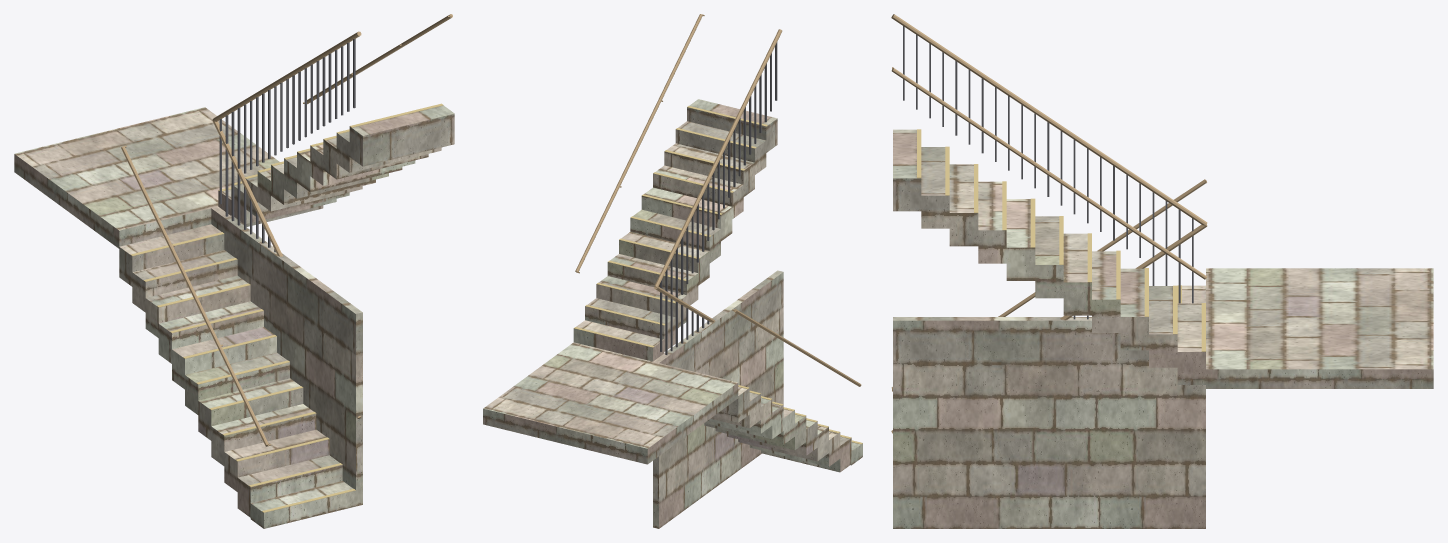
The model's file is stair_0.glb.
3 views of the same model, side by side, from view 1: azimuth 30°, elevation 25°; view 2: azimuth 150°, elevation 25°; view 3: azimuth 270°, elevation 25° (orthographic). The views are drawn at different scales.
Visible parts, largest first — view 1: stair_0_stone, stair_0_iron, stair_0_bronze, stair_0_gold; view 2: stair_0_stone, stair_0_iron, stair_0_bronze, stair_0_gold; view 3: stair_0_stone, stair_0_bronze, stair_0_iron, stair_0_gold.
Part boxes in pixels (x1,y1,x2,y2): stair_0_stone: (14,105,454,528); stair_0_iron: (219,39,355,252); stair_0_bronze: (121,14,452,446); stair_0_gold: (130,103,443,512); stair_0_stone: (483,99,862,528); stair_0_iron: (660,42,777,354); stair_0_bronze: (575,14,861,386); stair_0_gold: (573,106,862,444); stair_0_stone: (893,129,1433,528); stair_0_bronze: (891,14,1207,433); stair_0_iron: (903,26,1193,319); stair_0_gold: (917,129,1205,351).
Size of the model in its own units: 2.18 by 5.17 by 4.95.
4 materials, 1 textured.
